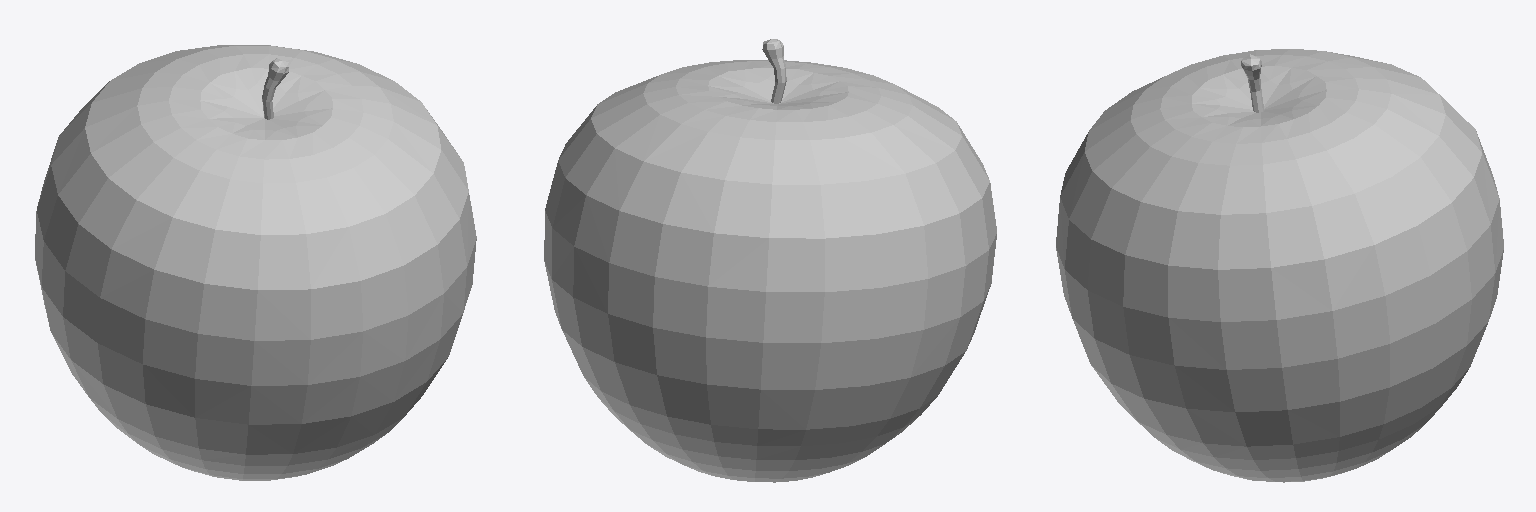
File: apple.obj
3 views of the same model, side by side, from view 1: azimuth 30°, elevation 25°; view 2: azimuth 150°, elevation 25°; view 3: azimuth 270°, elevation 25° (orthographic).
Parts seen in each view (by area): view 1: GreenApple; view 2: GreenApple; view 3: GreenApple.
Boxes of the visible parts, <box> form: GreenApple: <box>35,45,476,480</box>; GreenApple: <box>544,39,996,482</box>; GreenApple: <box>1056,49,1503,482</box>.
Size of the model in its own units: 110 by 110 by 110.